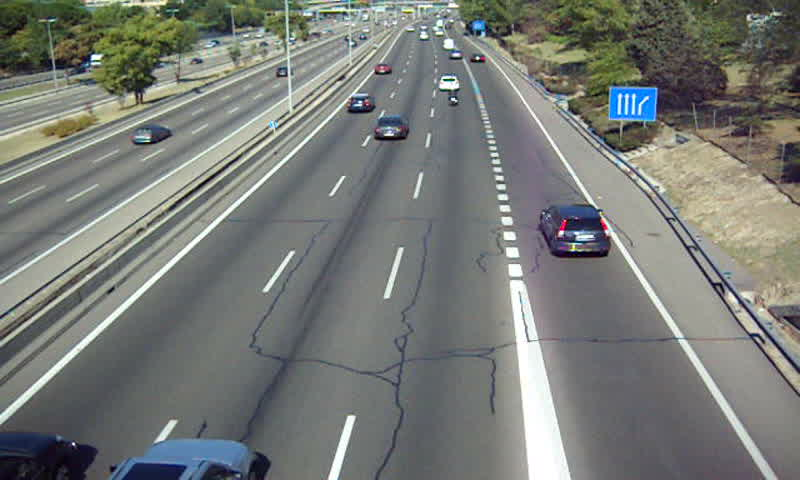car: (538, 202, 611, 256), (374, 115, 411, 140), (347, 94, 375, 116), (436, 75, 461, 92), (374, 63, 392, 75)
motorcycle: (445, 87, 460, 106)
